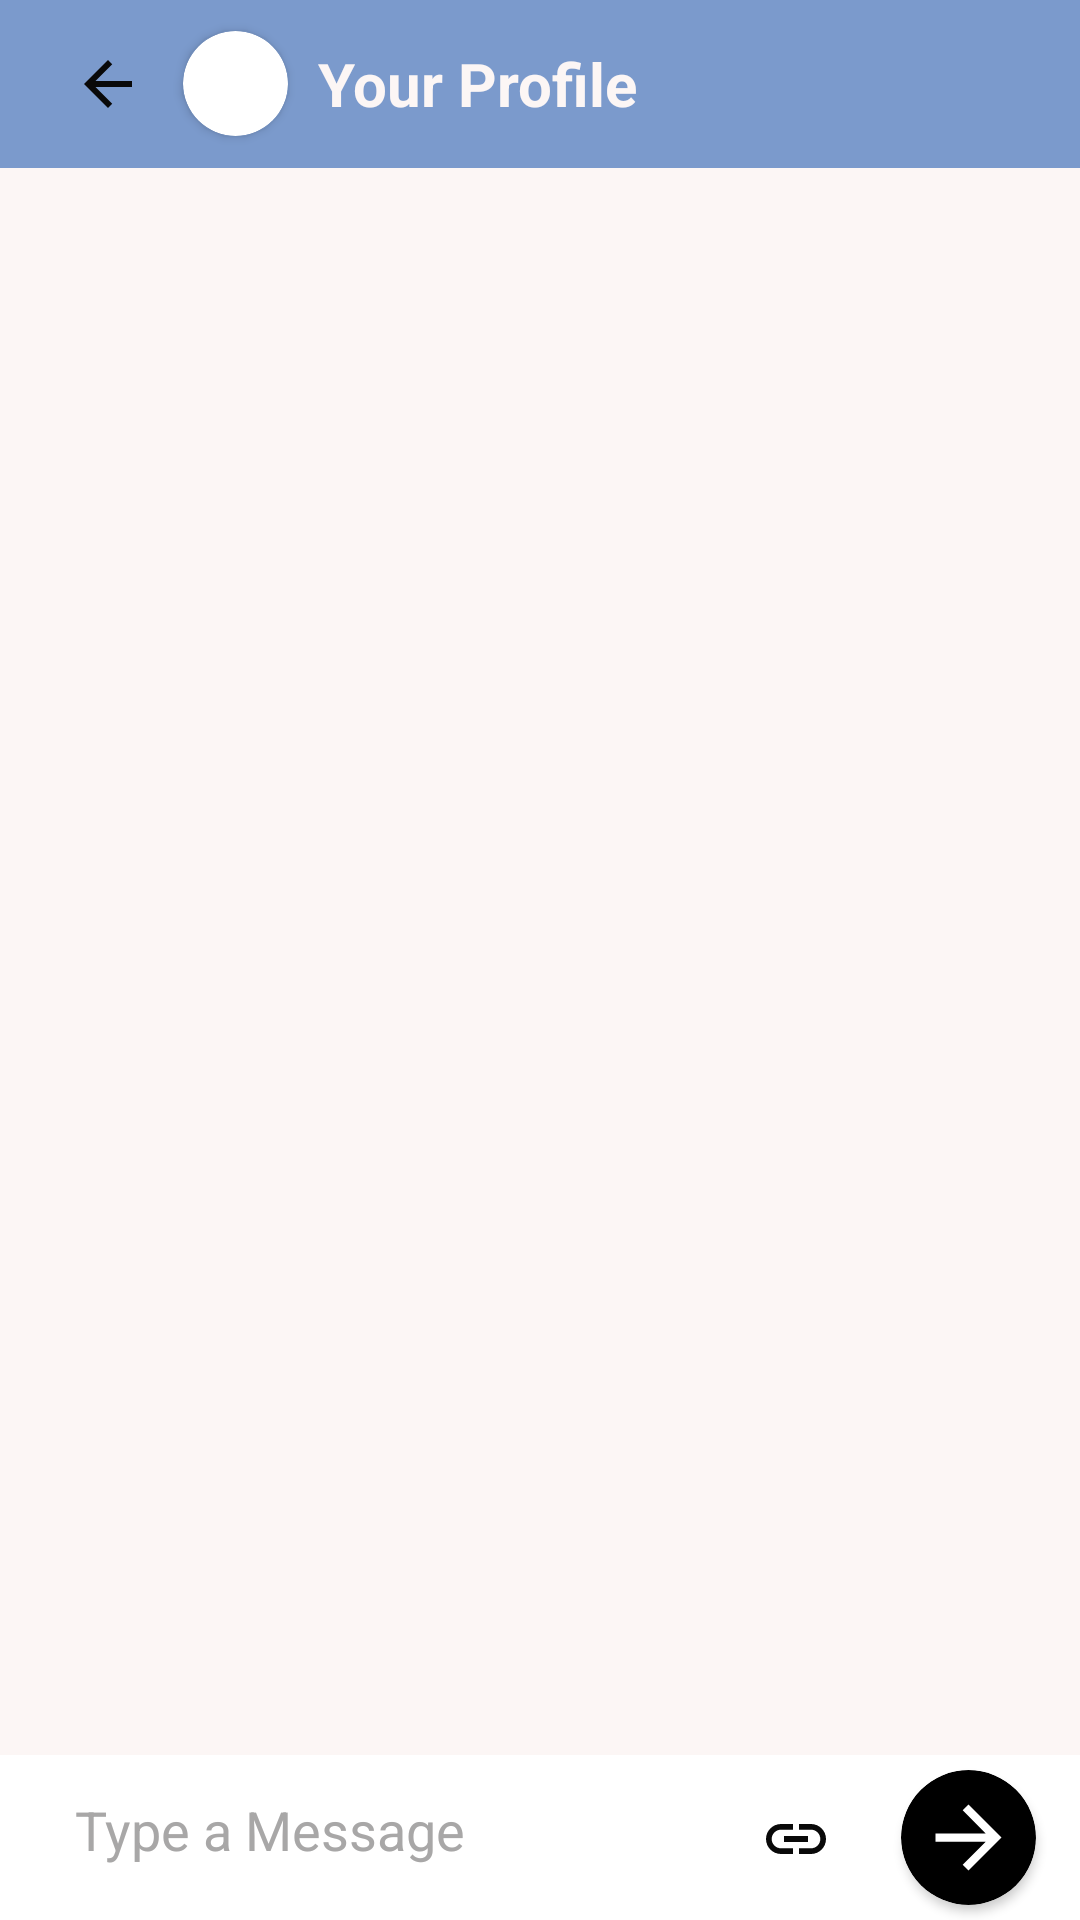

Where to tap for icons on this 1080×1920 app screen, as (x,y):
arrow back: (108,84)
arrow forward: (968,1837)
link: (796,1839)
